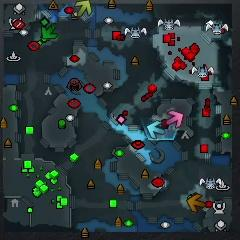x1: (166, 110, 183, 128)
x2: (75, 1, 91, 17)
x3: (147, 121, 165, 139)
x4: (42, 24, 58, 38)
x5: (186, 193, 205, 212)
